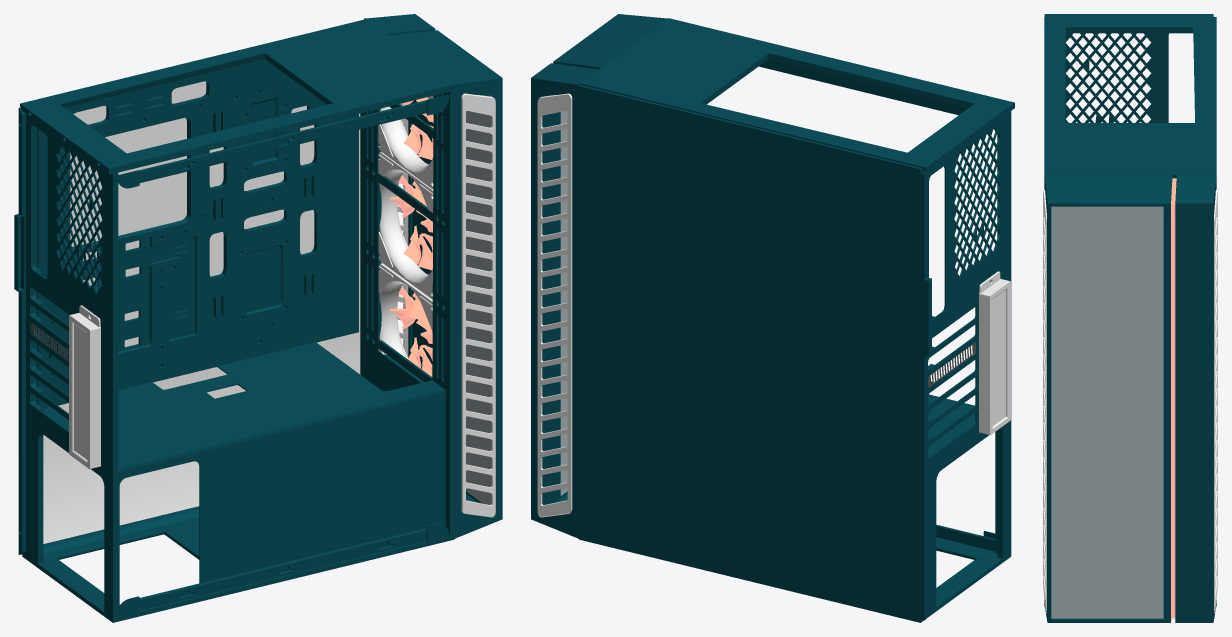
The model's file is static_case_two.glb.
3 views of the same model, side by side, from view 1: azimuth 30°, elevation 25°; view 2: azimuth 150°, elevation 25°; view 3: azimuth 270°, elevation 25° (orthographic). The views are drawn at different scales.
Visible parts, largest first — view 1: pCube225, pCube289, pb, pCube224, front2, polySurface14, pCube226, pCube228, polySurface27, polySurface22, pCube294, pCube294.001 (+1 smaller); view 2: pCube225, pCube224, front2, polySurface15, pCube226, pCube228, polySurface27, pb, polySurface22; view 3: front2, pCube224, pCube225, polySurface14, polySurface15.
Boxes of the visible parts, bbox=[...] form: pCube225: bbox=[22, 81, 454, 622]; pCube289: bbox=[37, 59, 358, 408]; pb: bbox=[43, 342, 445, 608]; pCube224: bbox=[20, 19, 454, 174]; front2: bbox=[364, 14, 502, 538]; polySurface14: bbox=[461, 93, 495, 517]; pCube226: bbox=[69, 305, 100, 469]; pCube228: bbox=[14, 107, 37, 554]; polySurface27: bbox=[139, 100, 426, 182]; polySurface22: bbox=[122, 528, 426, 610]; pCube294: bbox=[378, 152, 433, 299]; pCube294.001: bbox=[378, 263, 432, 358]; pCube225: bbox=[579, 85, 1011, 622]; pCube224: bbox=[580, 18, 1014, 171]; front2: bbox=[531, 14, 668, 538]; polySurface15: bbox=[537, 93, 572, 517]; pCube226: bbox=[979, 271, 1010, 435]; pCube228: bbox=[920, 172, 931, 620]; polySurface27: bbox=[759, 59, 967, 115]; pb: bbox=[928, 394, 997, 553]; polySurface22: bbox=[936, 524, 995, 551]; front2: bbox=[1044, 174, 1216, 622]; pCube224: bbox=[1044, 14, 1213, 174]; pCube225: bbox=[1044, 17, 1216, 605]; polySurface14: bbox=[1043, 189, 1046, 613]; polySurface15: bbox=[1214, 189, 1217, 613].
Bounding box in the file's own units: 0.155 × 0.1673 × 0.0613.
